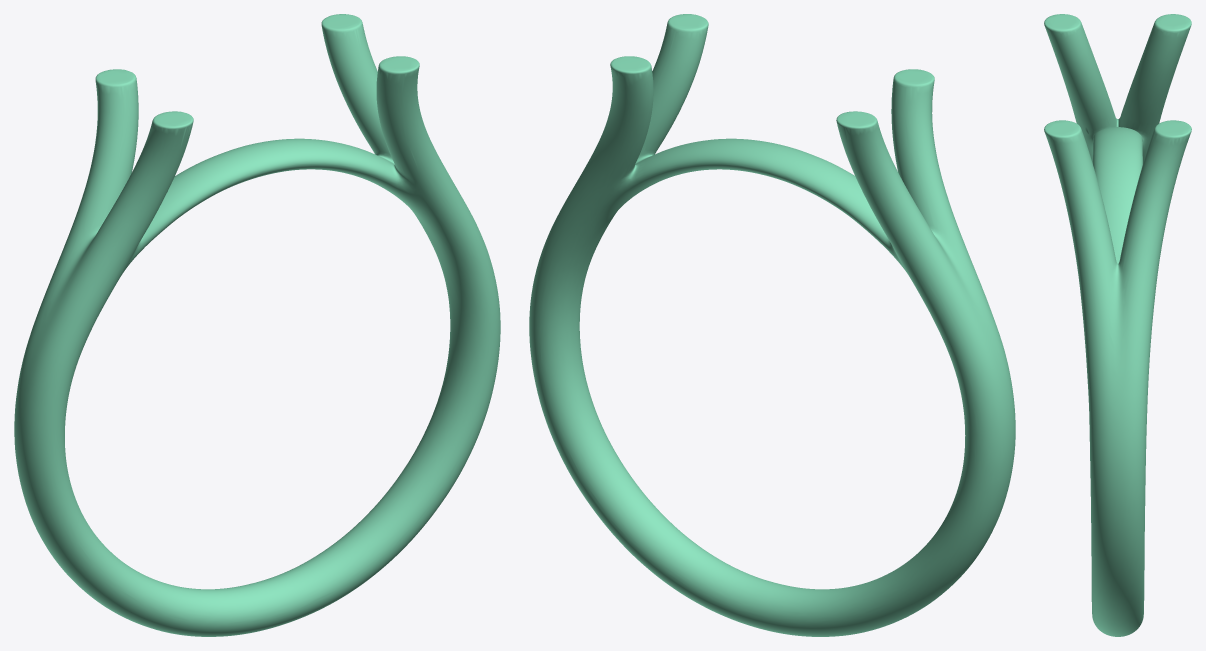
3 views of the same model, side by side, from view 1: azimuth 30°, elevation 25°; view 2: azimuth 150°, elevation 25°; view 3: azimuth 270°, elevation 25° (orthographic). The views are drawn at different scales.
Visible parts, largest first — view 1: Metal02; view 2: Metal02; view 3: Metal02.
Boxes of the visible parts, box(x1,y1,x2,y2) form: Metal02: box(14, 14, 500, 636); Metal02: box(529, 14, 1015, 636); Metal02: box(1044, 14, 1191, 636).
Bounding box in the file's own units: 20.86 × 23.34 × 5.82.
